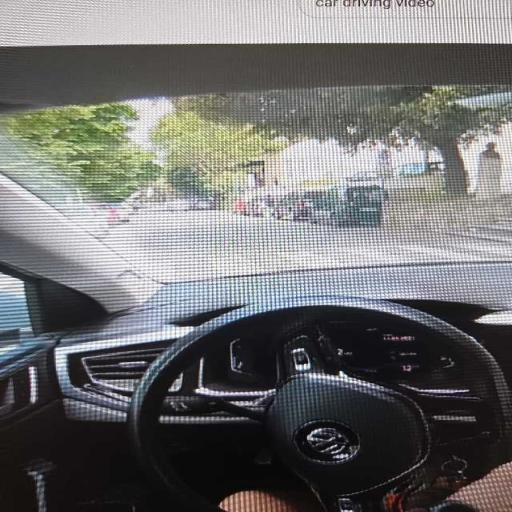car: (0, 45, 511, 511), (310, 179, 386, 225)
lane: (106, 209, 505, 282)
person: (405, 463, 511, 511), (476, 143, 502, 203)
